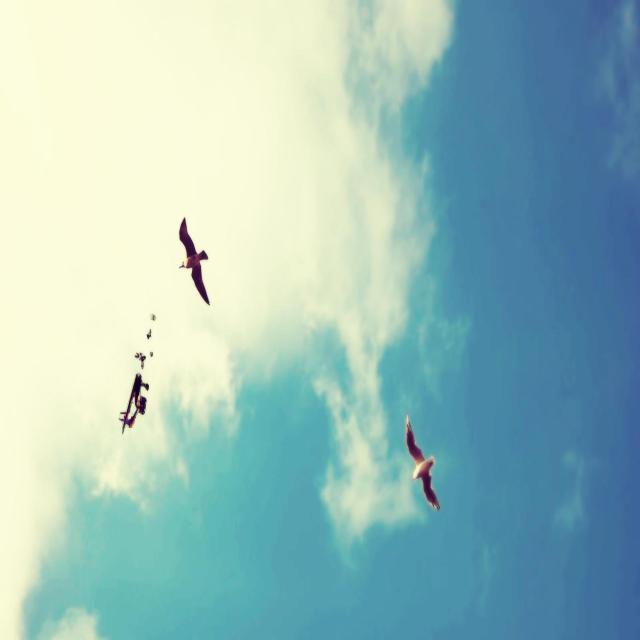airplane: (118, 372, 149, 434), (134, 351, 146, 368), (146, 328, 152, 340)
